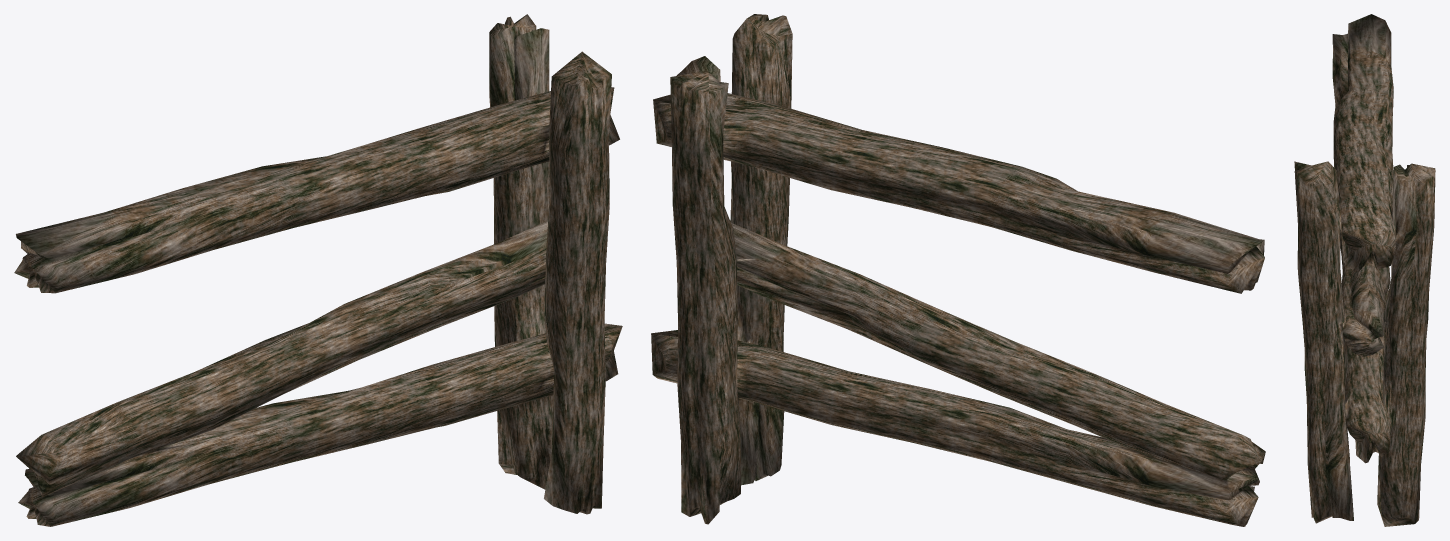
The model's file is Bark_Fence2_OneMesh.fbx.
3 views of the same model, side by side, from view 1: azimuth 30°, elevation 25°; view 2: azimuth 150°, elevation 25°; view 3: azimuth 270°, elevation 25° (orthographic). The views are drawn at different scales.
Parts seen in each view (by area): view 1: Cube.008; view 2: Cube.008; view 3: Cube.008.
Part boxes in pixels (x1=…): Cube.008: x1=14, y1=14, x2=622, y2=526; Cube.008: x1=651, y1=14, x2=1265, y2=526; Cube.008: x1=1294, y1=14, x2=1435, y2=526.
Size of the model in its own units: 558 by 407 by 142.
